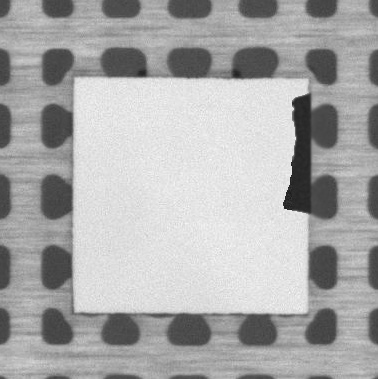DIE_BROKEN: (283, 90, 313, 220)
